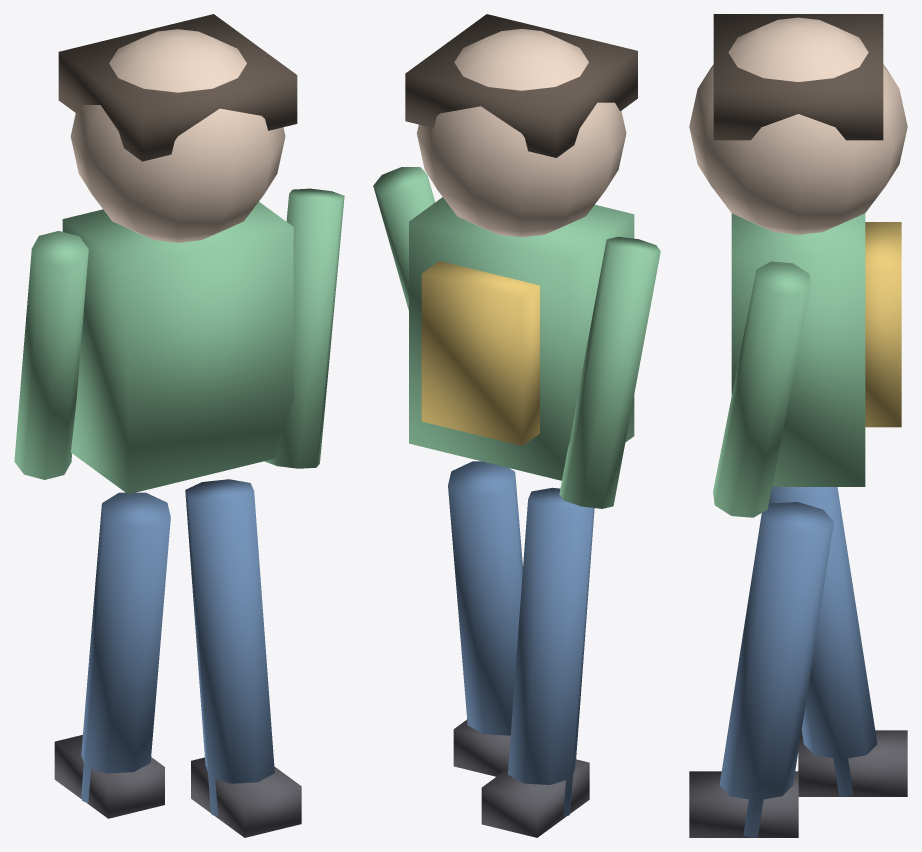
File: pedestrian_child.glb
The picture shows the model from 3 angles, left to right: view 1: azimuth 30°, elevation 25°; view 2: azimuth 150°, elevation 25°; view 3: azimuth 270°, elevation 25°; orthographic projection. The views are drawn at different scales.
Parts seen in each view (by area): view 1: PedestrianChild; view 2: PedestrianChild; view 3: PedestrianChild.
Part boxes in pixels (<box>): PedestrianChild: <box>14,14,344,837</box>; PedestrianChild: <box>373,14,660,837</box>; PedestrianChild: <box>689,14,907,837</box>.
Bounding box in the file's own units: 0.57 × 1.42 × 0.36.
